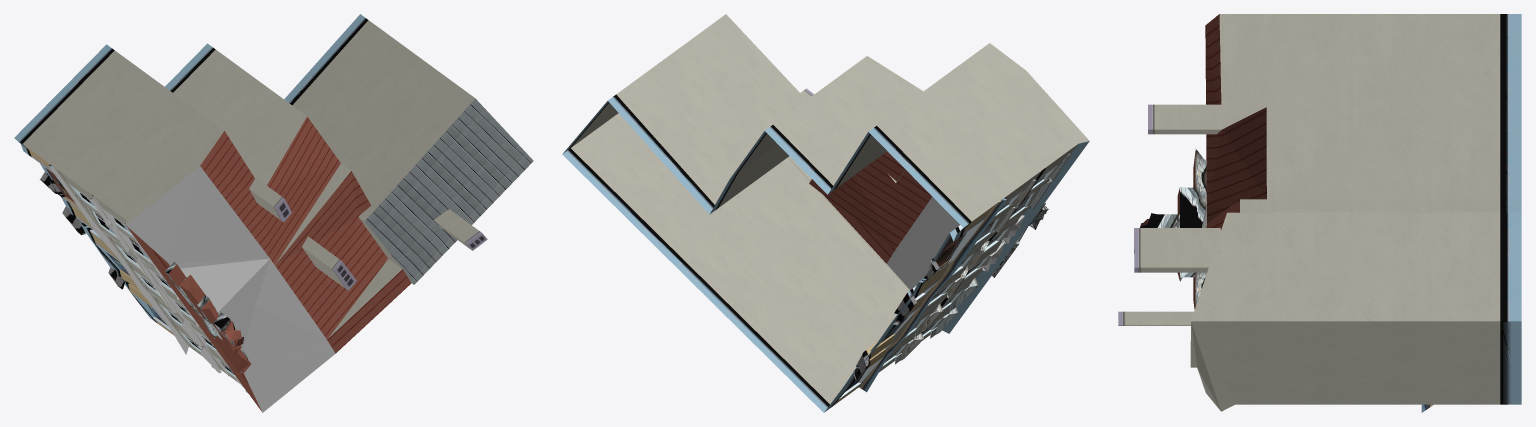
File: SK3-origo.obj
3 renders of one model, left to right at view 1: azimuth 30°, elevation 25°; view 2: azimuth 150°, elevation 25°; view 3: azimuth 270°, elevation 25°, orthographic. The views are drawn at different scales.
Visible parts, largest first — view 1: Suur_Karja_3; view 2: Suur_Karja_3; view 3: Suur_Karja_3.
Boxes of the visible parts, x1,y1,x2,y2 form: Suur_Karja_3: (14,14,533,412); Suur_Karja_3: (562,14,1089,412); Suur_Karja_3: (1118,14,1521,412).
Bounding box in the file's own units: 26.25 × 18.5 × 18.1.
